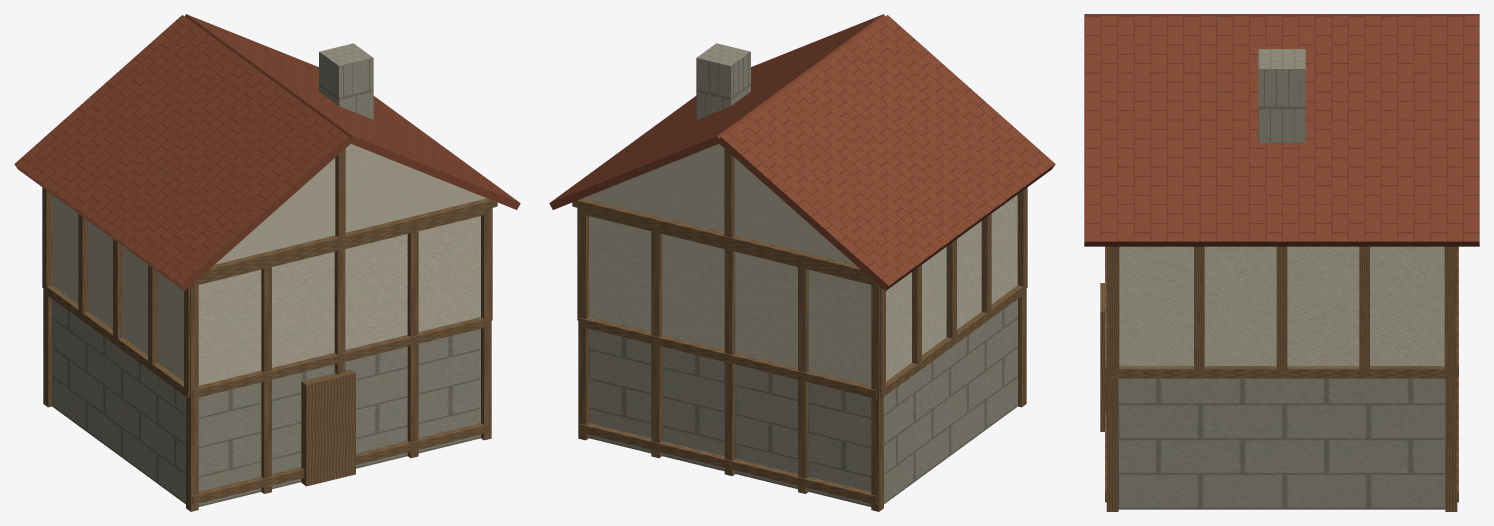
3 renders of one model, left to right at view 1: azimuth 30°, elevation 25°; view 2: azimuth 150°, elevation 25°; view 3: azimuth 270°, elevation 25°, orthographic. The views are drawn at different scales.
Parts seen in each view (by area): view 1: house-roof, house-plaster, house-stone, house-wood; view 2: house-roof, house-plaster, house-stone, house-wood; view 3: house-roof, house-stone, house-plaster, house-wood.
Part boxes in pixels (<box>): house-roof: <box>14,14,520,291</box>; house-plaster: <box>52,144,486,385</box>; house-stone: <box>52,43,480,506</box>; house-wood: <box>42,148,497,511</box>; house-roof: <box>549,14,1055,291</box>; house-plaster: <box>583,144,1017,385</box>; house-stone: <box>589,43,1017,506</box>; house-wood: <box>572,148,1027,511</box>; house-roof: <box>1084,14,1479,246</box>; house-stone: <box>1118,49,1445,509</box>; house-plaster: <box>1119,246,1444,365</box>; house-wood: <box>1100,246,1458,511</box>.
Size of the model in its own units: 7.88 by 7.7 by 6.7.
Materials: 4 (4 with a texture image).
